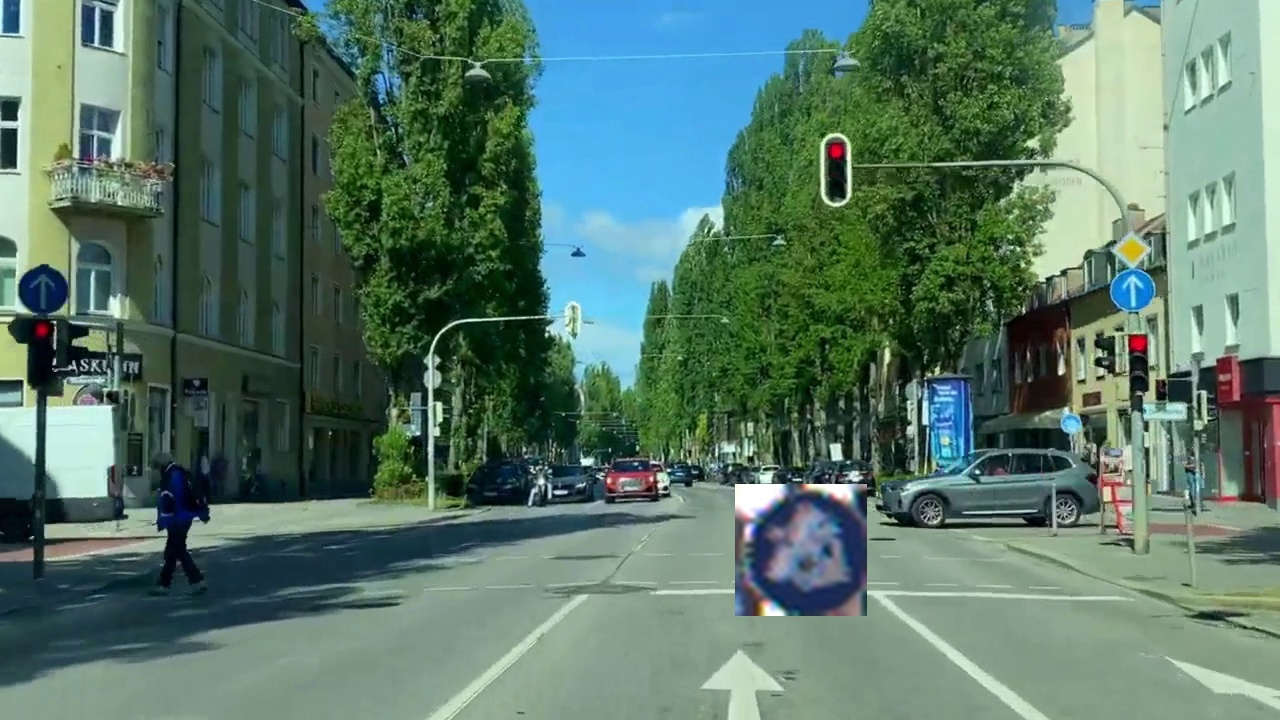Keep right: (735, 484, 867, 616)
